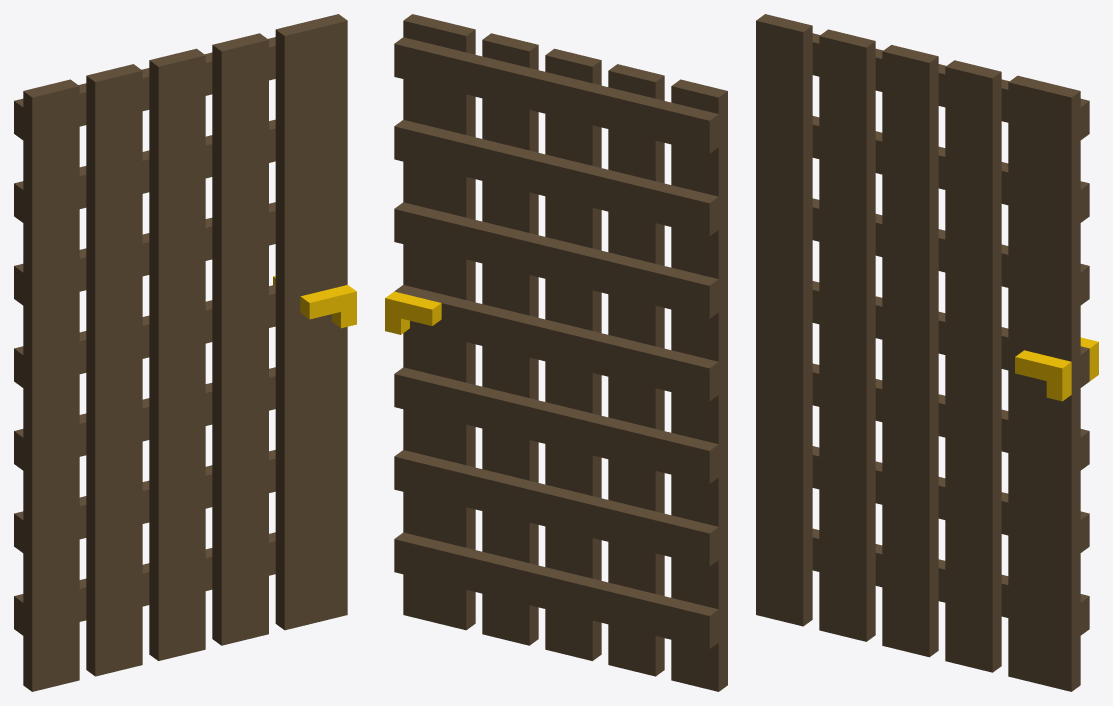
The model's file is House-1.obj.
3 views of the same model, side by side, from view 1: azimuth 30°, elevation 25°; view 2: azimuth 150°, elevation 25°; view 3: azimuth 330°, elevation 25° (orthographic).
Bounding box in the file's own units: 2 × 3.6 × 0.4.
1 material, 1 textured.
